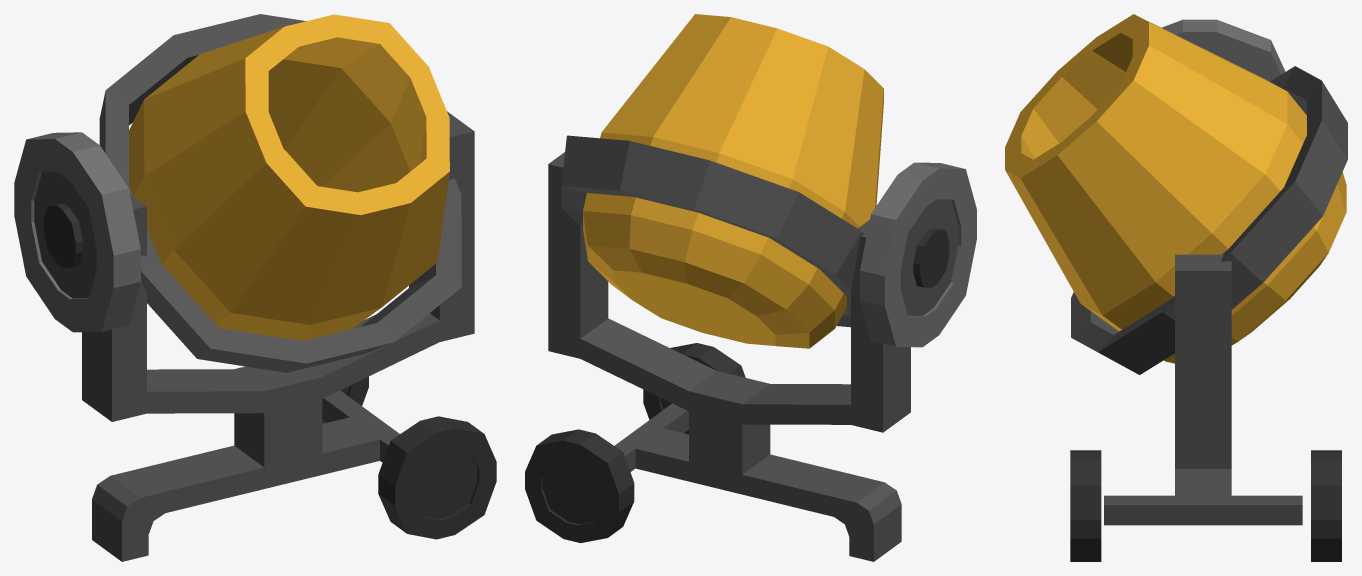
The picture shows the model from 3 angles, left to right: view 1: azimuth 30°, elevation 25°; view 2: azimuth 150°, elevation 25°; view 3: azimuth 270°, elevation 25°; orthographic projection. The views are drawn at different scales.
Parts seen in each view (by area): view 1: G-4, Cube.467, Cube.469, Cube.468, Cube.466; view 2: G-4, Cube.467, Cube.469, Cube.468, Cube.427, Cube.466; view 3: G-4, Cube.467, Cube.469, Cube.468, Cube.466, Cube.427.
Boxes of the visible parts, box(x1,y1,x2,y2) form: G-4: box(129, 14, 449, 340); Cube.467: box(82, 111, 474, 561); Cube.469: box(99, 14, 461, 372); Cube.468: box(14, 132, 140, 332); Cube.466: box(378, 416, 496, 539); G-4: box(583, 14, 883, 348); Cube.467: box(548, 152, 910, 561); Cube.469: box(561, 135, 863, 327); Cube.468: box(860, 162, 976, 347); Cube.427: box(525, 429, 634, 543); Cube.466: box(643, 343, 745, 434); G-4: box(1005, 14, 1346, 363); Cube.467: box(1104, 254, 1302, 525); Cube.469: box(1071, 66, 1347, 374); Cube.468: box(1162, 19, 1285, 81); Cube.466: box(1070, 450, 1101, 561); Cube.427: box(1311, 450, 1341, 561).
Bounding box in the file's own units: 245 × 296 × 192.
